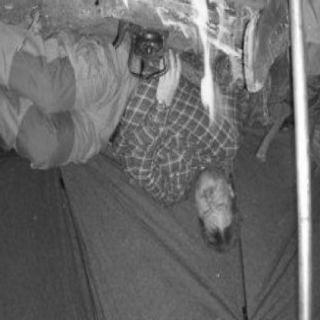Fire: (153, 2, 265, 128)
